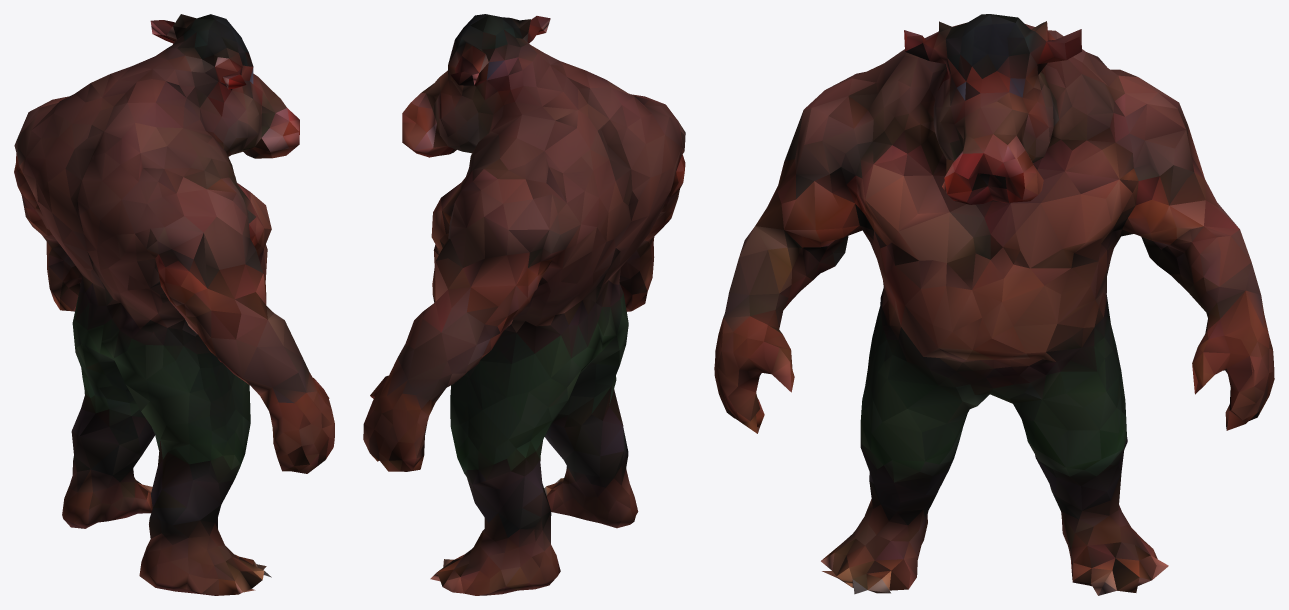
Rendered from pig_base.glb.
3 views of the same model, side by side, from view 1: azimuth 30°, elevation 25°; view 2: azimuth 150°, elevation 25°; view 3: azimuth 270°, elevation 25° (orthographic). The views are drawn at different scales.
Parts seen in each view (by area): view 1: model; view 2: model; view 3: model.
Boxes of the visible parts, left/top/right/bottom form: model: left=14, top=14, right=334, bottom=595; model: left=363, top=14, right=685, bottom=595; model: left=714, top=14, right=1274, bottom=595.
Bounding box in the file's own units: 0.7347 × 1.69 × 1.46.
Materials: 1 (1 with a texture image).
